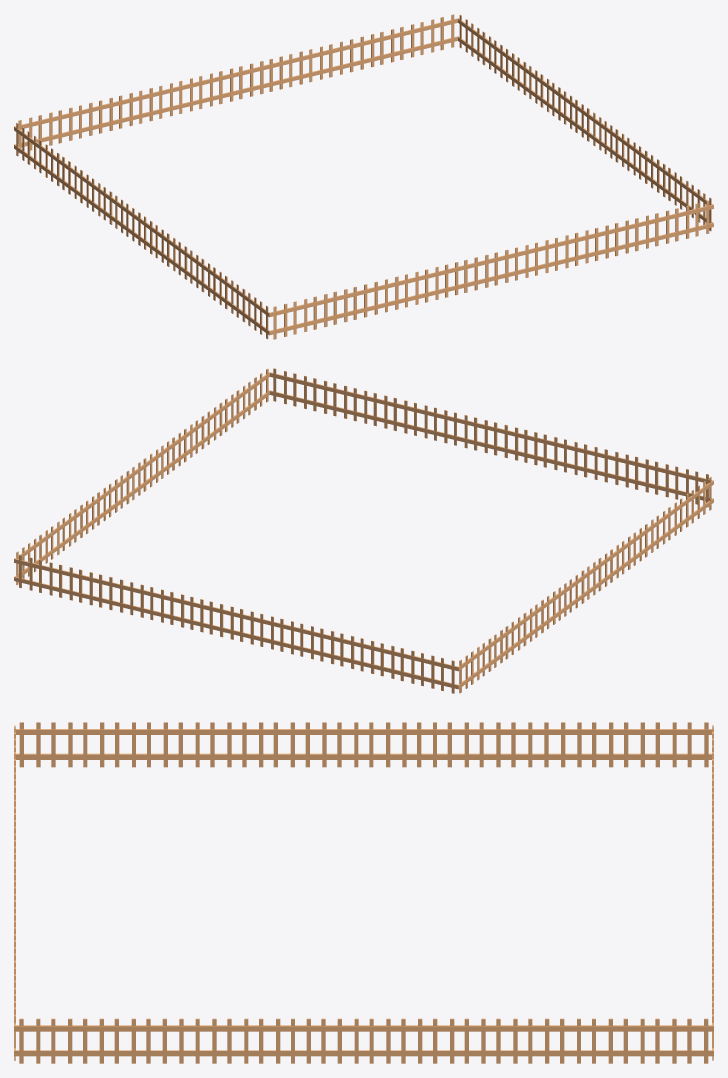
File: fence.fbx
The picture shows the model from 3 angles, top to bottom: view 1: azimuth 30°, elevation 25°; view 2: azimuth 150°, elevation 25°; view 3: azimuth 270°, elevation 25°; orthographic projection. The views are drawn at different scales.
Visible parts, largest first — view 1: Cube.044, Cube.045, Cube.136, Cube.137, Cube.182, Cube.183, Cube.090, Cube.091; view 2: Cube.137, Cube.136, Cube.044, Cube.045, Cube.182, Cube.183, Cube.090, Cube.091; view 3: Cube.090, Cube.091, Cube.183, Cube.182, Cube.044, Cube.136.
Part boxes in pixels (bbox=[...]): Cube.044: bbox=[270, 204, 712, 316]; Cube.045: bbox=[270, 223, 712, 334]; Cube.136: bbox=[15, 18, 457, 129]; Cube.137: bbox=[15, 36, 457, 147]; Cube.182: bbox=[14, 126, 270, 317]; Cube.183: bbox=[14, 144, 270, 335]; Cube.090: bbox=[457, 18, 713, 208]; Cube.091: bbox=[457, 36, 713, 226]; Cube.137: bbox=[15, 577, 457, 688]; Cube.136: bbox=[15, 559, 457, 670]; Cube.044: bbox=[270, 372, 712, 483]; Cube.045: bbox=[270, 390, 711, 501]; Cube.182: bbox=[457, 480, 713, 671]; Cube.183: bbox=[457, 498, 713, 689]; Cube.090: bbox=[14, 372, 269, 562]; Cube.091: bbox=[14, 390, 270, 580]; Cube.090: bbox=[14, 1025, 713, 1031]; Cube.091: bbox=[14, 1050, 713, 1056]; Cube.183: bbox=[16, 753, 711, 759]; Cube.182: bbox=[14, 729, 713, 734]; Cube.044: bbox=[14, 730, 15, 1025]; Cube.136: bbox=[712, 730, 713, 1025].
Bounding box in the file's own units: 10706 × 749 × 10653.
